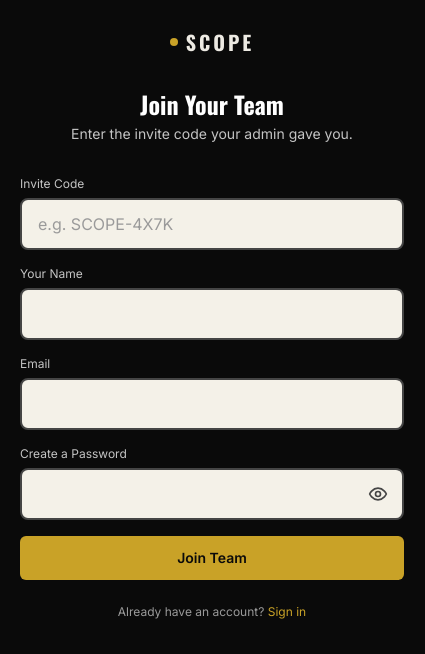
Scenario: Join (signup + invite code redemption) › shows an error for an invalid invite code and does not redirect
Type "BOGUS-0000" into the field with placeholder "e.g. SCOPE-4X7K".
click(212, 224); type("BOGUS-0000")  # box [20,198,404,250]
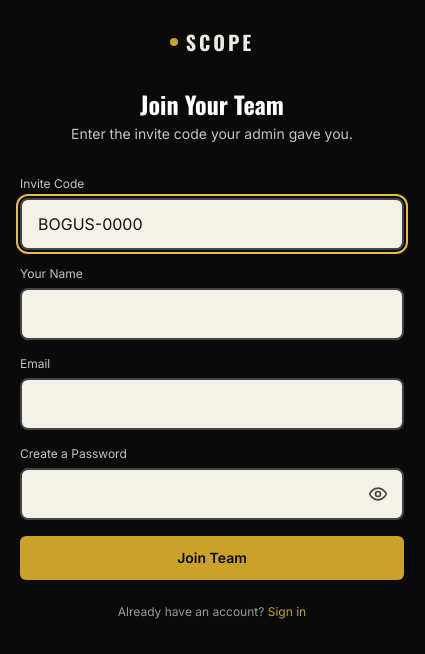
Type "Jamie Plumber" into the field below "Your Name".
click(212, 314); type("Jamie Plumber")  # box [20,288,404,340]
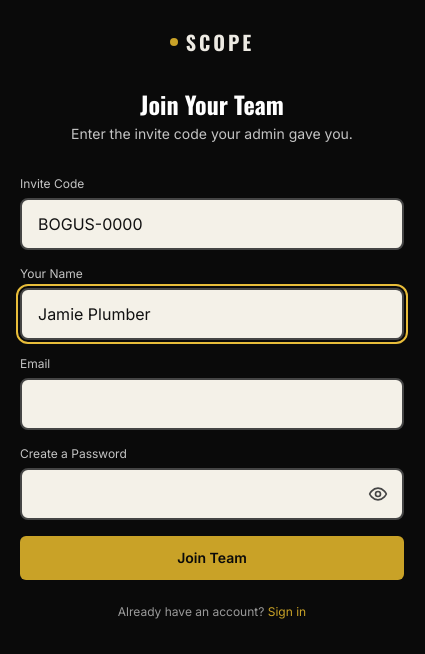
Type "jamie@scope.test" into the field below "Email".
click(212, 404); type("jamie@scope.test")  # box [20,378,404,430]
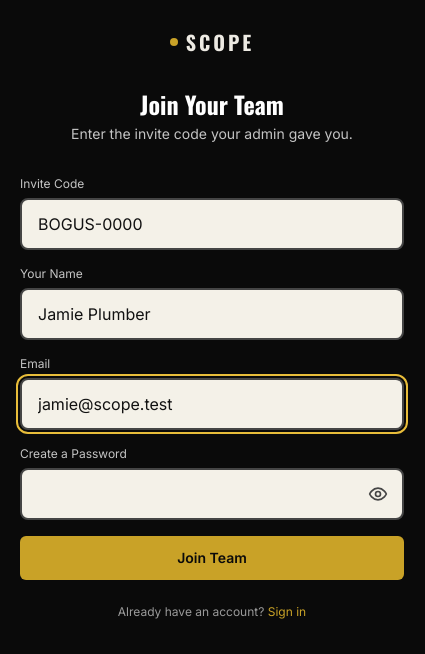
Type "hunter22" into the password field.
click(212, 494); type("hunter22")  # box [20,468,404,520]
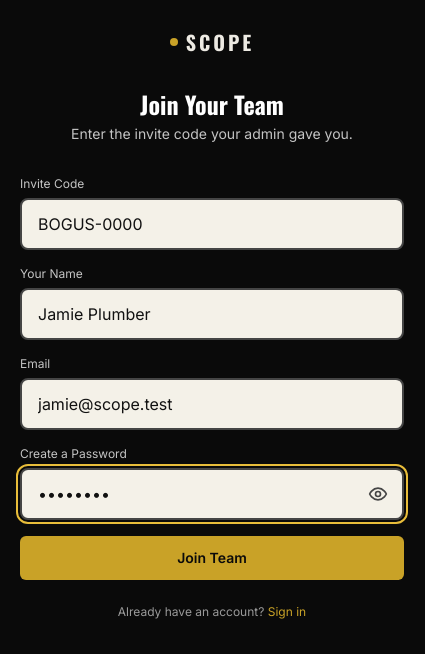
Click the button "Join Team".
click(212, 558)  # box [20,536,404,580]
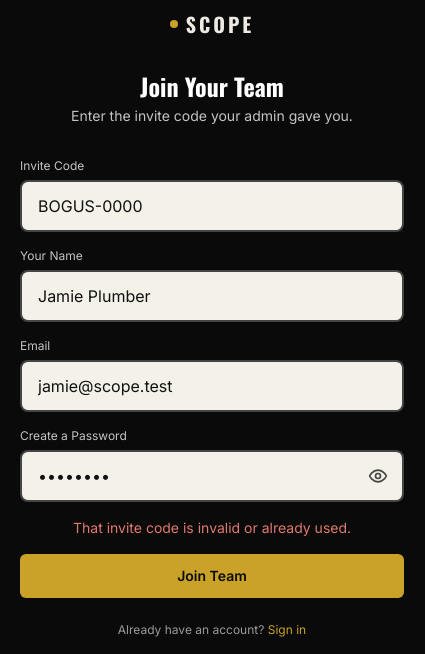
Result: the text "That invite code is invalid or already used." is shown at [73,519,351,536]
